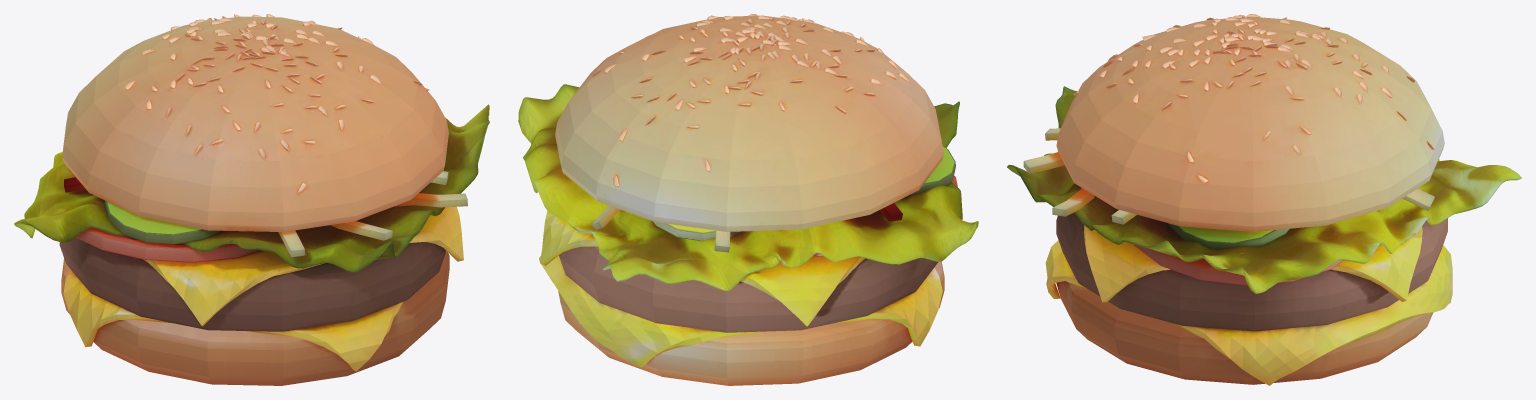
The model's file is burger.glb.
3 renders of one model, left to right at view 1: azimuth 30°, elevation 25°; view 2: azimuth 150°, elevation 25°; view 3: azimuth 270°, elevation 25°, orthographic.
Parts seen in each view (by area): view 1: Object_6, Object_10, Object_8, Object_31, Object_12, Object_14, Object_4, Object_25, Object_39, Object_36, Object_37; view 2: Object_6, Object_31, Object_10, Object_8, Object_14, Object_12, Object_4, Object_39, Object_16, Object_37; view 3: Object_6, Object_31, Object_10, Object_8, Object_14, Object_12, Object_4, Object_39, Object_29, Object_19, Object_20.
Part boxes in pixels (<box>): Object_6: <box>62,16,448,231</box>; Object_10: <box>59,237,445,331</box>; Object_8: <box>61,251,449,385</box>; Object_31: <box>14,104,489,272</box>; Object_12: <box>143,206,463,326</box>; Object_14: <box>63,269,403,371</box>; Object_4: <box>125,14,429,194</box>; Object_25: <box>76,227,261,262</box>; Object_39: <box>64,171,467,257</box>; Object_36: <box>104,200,223,244</box>; Object_37: <box>107,201,200,234</box>; Object_6: <box>555,15,943,231</box>; Object_31: <box>518,84,978,290</box>; Object_10: <box>559,246,937,332</box>; Object_8: <box>558,261,944,385</box>; Object_14: <box>539,256,942,367</box>; Object_12: <box>540,211,865,326</box>; Object_4: <box>592,14,909,186</box>; Object_39: <box>591,203,902,252</box>; Object_16: <box>653,221,743,240</box>; Object_37: <box>925,146,954,182</box>; Object_6: <box>1056,16,1444,231</box>; Object_31: <box>1007,86,1521,293</box>; Object_10: <box>1056,213,1447,331</box>; Object_8: <box>1056,281,1433,384</box>; Object_14: <box>1045,240,1452,385</box>; Object_12: <box>1084,225,1422,302</box>; Object_4: <box>1073,14,1434,182</box>; Object_39: <box>1023,128,1434,224</box>; Object_29: <box>1134,244,1343,285</box>; Object_19: <box>1168,223,1289,249</box>; Object_20: <box>1179,226,1272,242</box>.
Bounding box in the file's own units: 0.828 × 0.4709 × 0.8016.
21 materials, 21 textured.
